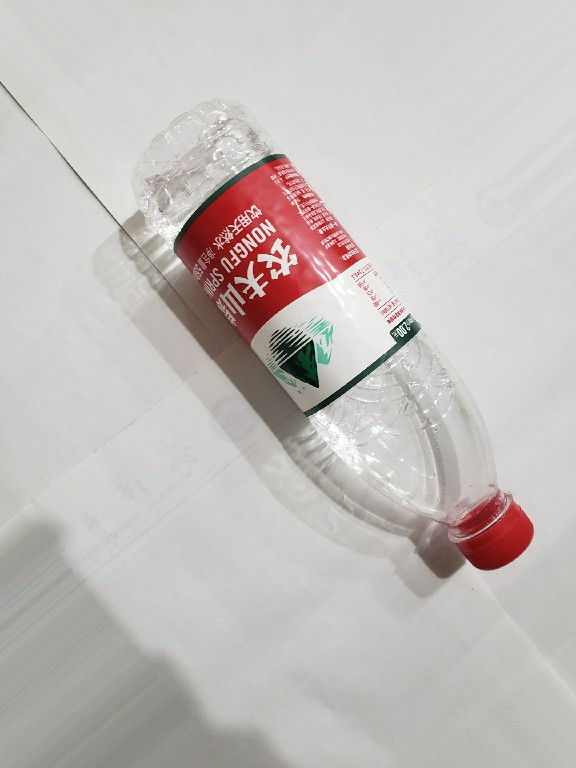bottle: (124, 89, 536, 576)
